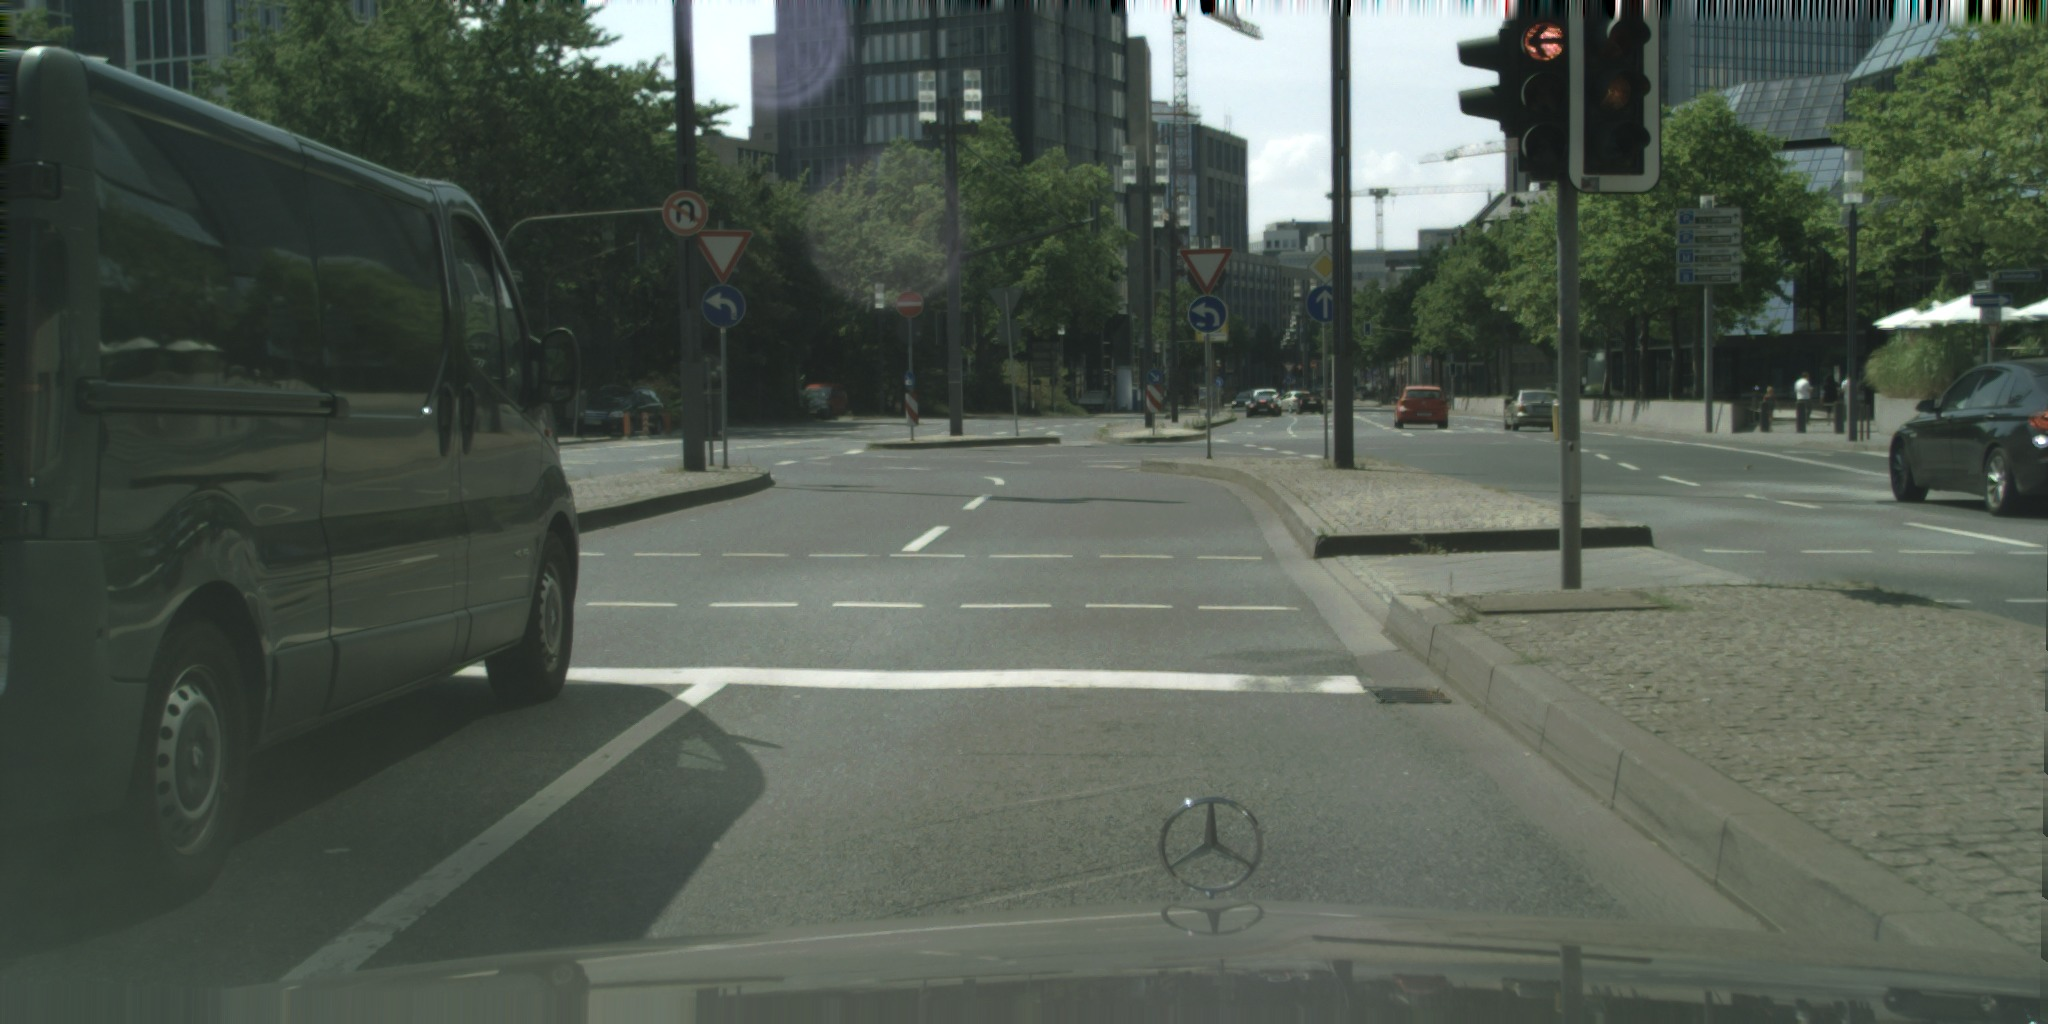car: (0, 46, 581, 914), (1889, 357, 2047, 517), (576, 383, 663, 436), (1503, 389, 1559, 431), (1393, 386, 1448, 429), (805, 382, 848, 419), (1268, 390, 1311, 413), (1246, 393, 1282, 418), (1296, 393, 1324, 415), (1231, 390, 1256, 410), (1252, 389, 1279, 405)
person: (1820, 376, 1839, 425), (1795, 373, 1812, 423), (1840, 375, 1853, 422), (1763, 386, 1776, 424)
